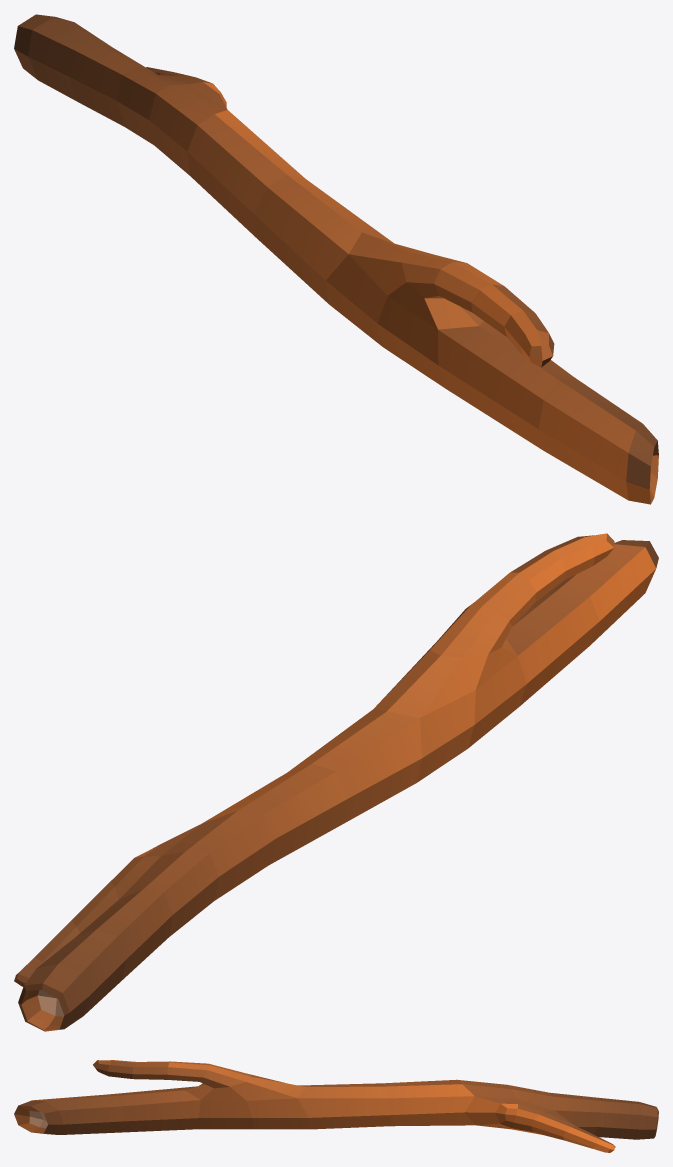
File: Water_Log1.fbx
The picture shows the model from 3 angles, top to bottom: view 1: azimuth 30°, elevation 25°; view 2: azimuth 150°, elevation 25°; view 3: azimuth 270°, elevation 25°; orthographic projection. The views are drawn at different scales.
Visible parts, largest first — view 1: Log_1; view 2: Log_1; view 3: Log_1.
Boxes of the visible parts, <box> form: Log_1: <box>14,14,658,504</box>; Log_1: <box>14,533,658,1031</box>; Log_1: <box>14,1060,658,1152</box>.
Size of the model in its own units: 53.01 by 54.76 by 459.
1 material, 1 textured.
